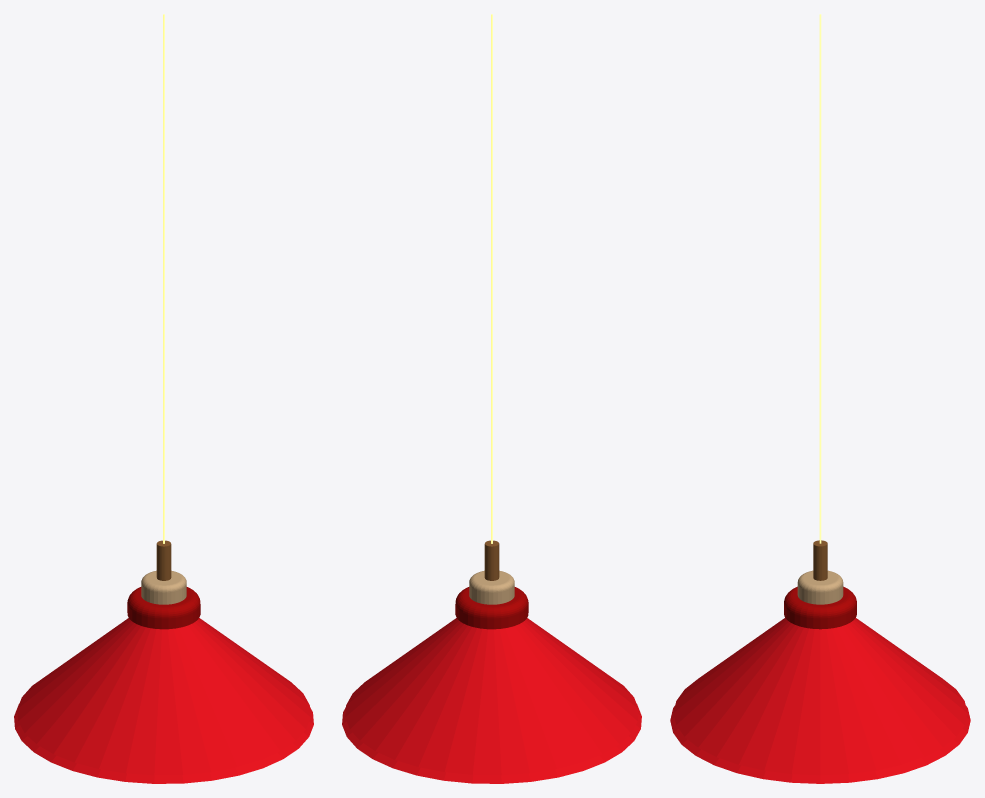
Rendered from hangingLamp.glb.
3 renders of one model, left to right at view 1: azimuth 30°, elevation 25°; view 2: azimuth 150°, elevation 25°; view 3: azimuth 270°, elevation 25°, orthographic.
Visible parts, largest first — view 1: Cylinder; view 2: Cylinder; view 3: Cylinder.
Boxes of the visible parts, x1,y1,x2,y2 form: Cylinder: (14, 14, 313, 783); Cylinder: (342, 14, 641, 783); Cylinder: (670, 14, 970, 783).
Bounding box in the file's own units: 13.06 × 34.74 × 13.06.
